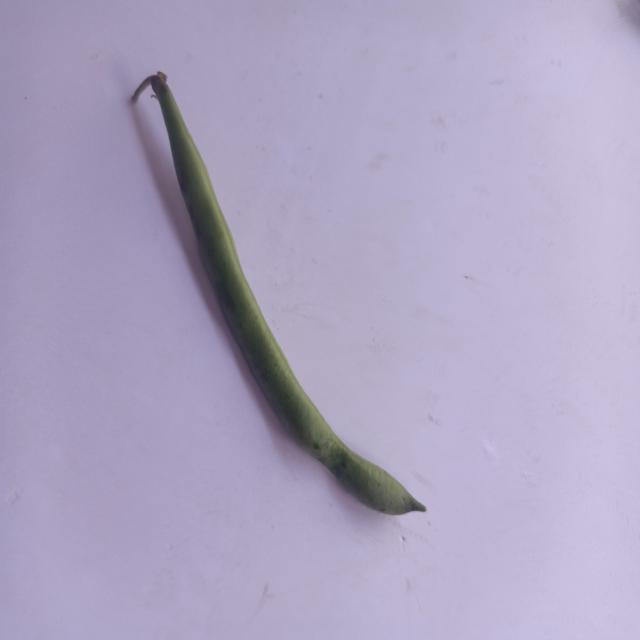Beans: (106, 48, 430, 544)
